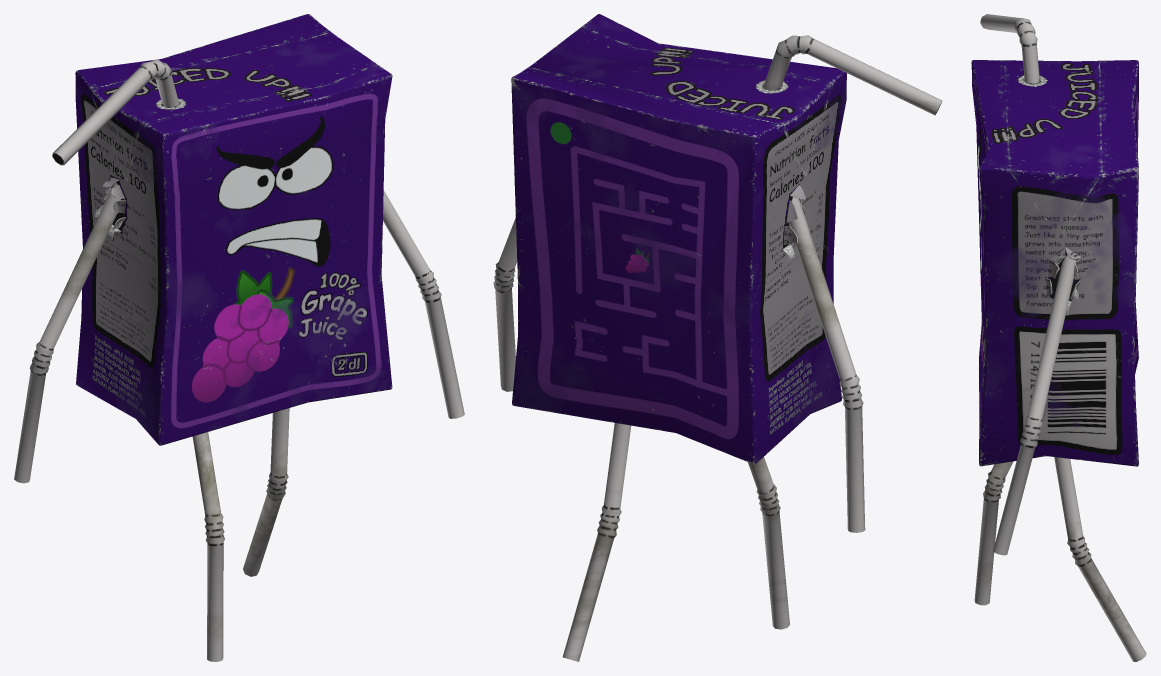
The model's file is juicebox.fbx.
3 views of the same model, side by side, from view 1: azimuth 30°, elevation 25°; view 2: azimuth 150°, elevation 25°; view 3: azimuth 270°, elevation 25° (orthographic). The views are drawn at different scales.
Parts seen in each view (by area): view 1: juicebox; view 2: juicebox; view 3: juicebox.
Part boxes in pixels (bbox=[...]): juicebox: bbox=[14, 14, 464, 661]; juicebox: bbox=[493, 14, 942, 661]; juicebox: bbox=[971, 14, 1146, 661].
Size of the model in its own units: 182 by 250 by 70.11.
